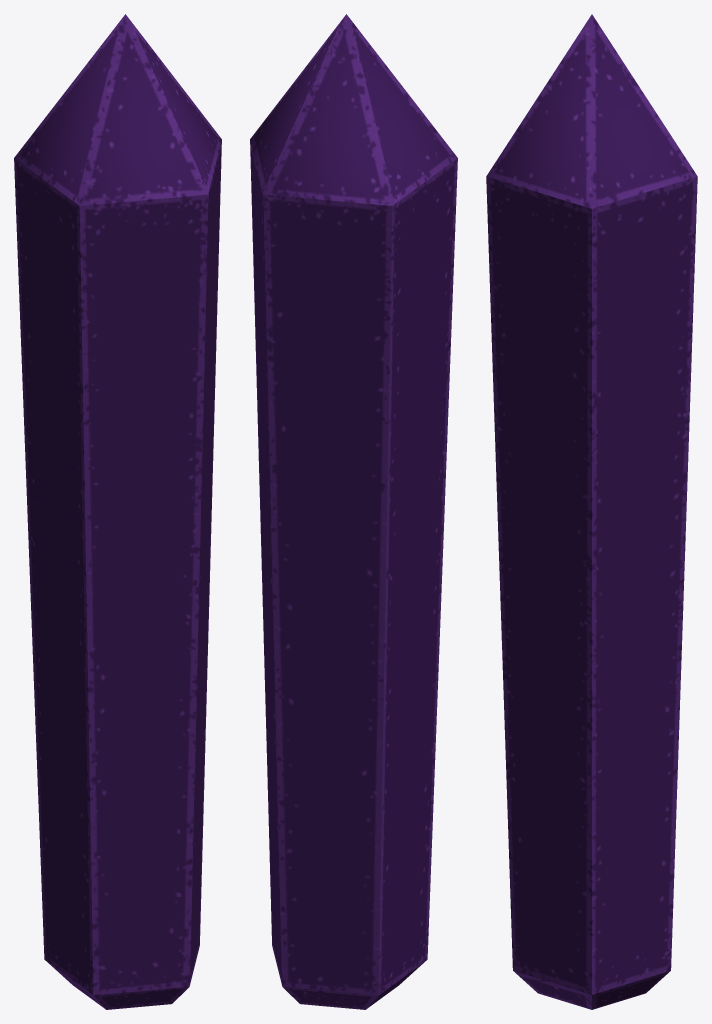
File: crystal_v01.fbx
The picture shows the model from 3 angles, left to right: view 1: azimuth 30°, elevation 25°; view 2: azimuth 150°, elevation 25°; view 3: azimuth 270°, elevation 25°; orthographic projection.
Parts seen in each view (by area): view 1: crystal_p01; view 2: crystal_p01; view 3: crystal_p01.
Part boxes in pixels (x1,y1,x2,y2): crystal_p01: [14, 14, 221, 1009]; crystal_p01: [250, 14, 457, 1009]; crystal_p01: [486, 14, 697, 1009].
Size of the model in its own units: 1.53 by 8.13 by 1.61.
